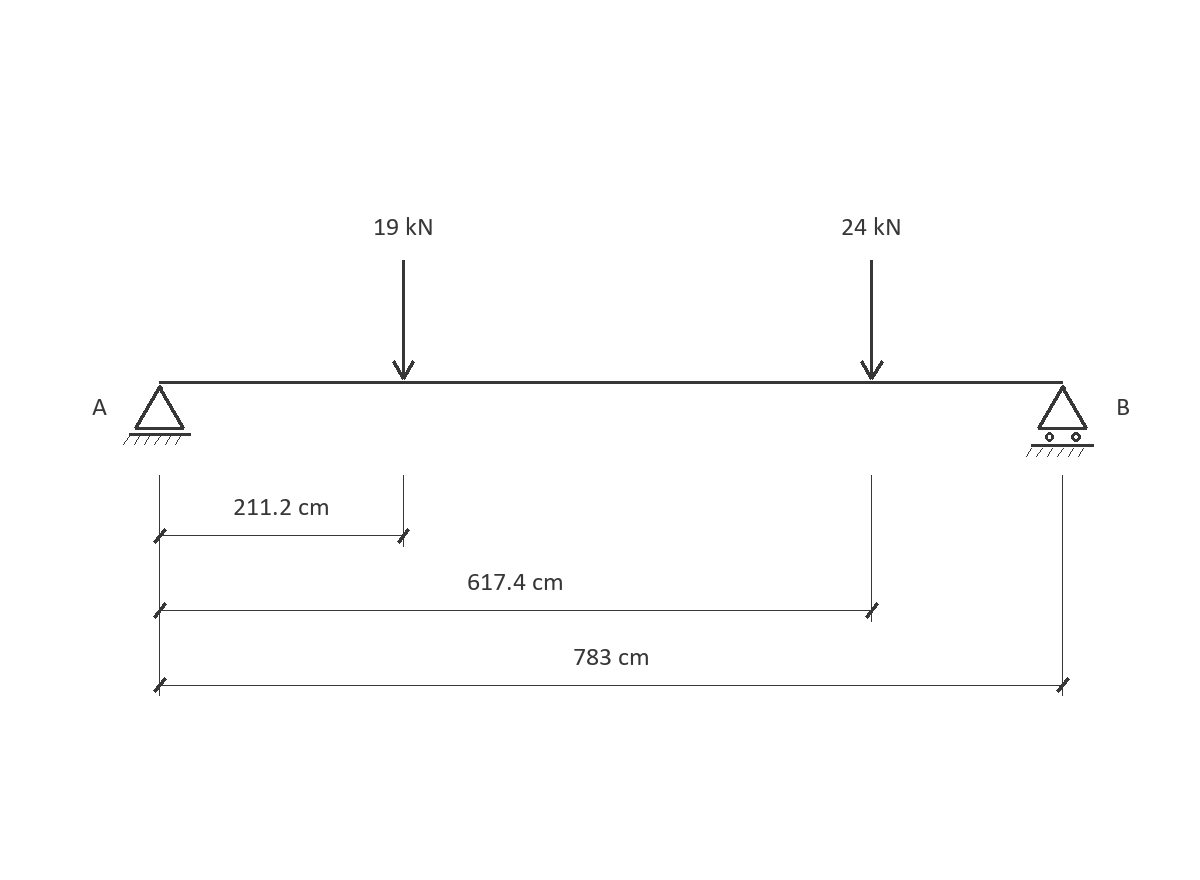pin_support: (123, 385, 191, 445)
point_load: (860, 260, 884, 380), (392, 260, 415, 380)
roller_support: (1026, 385, 1094, 457)
